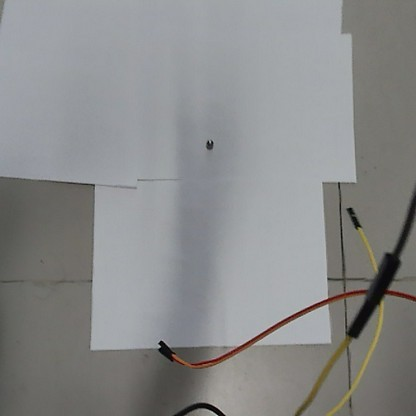ironball: (203, 138, 212, 150)
